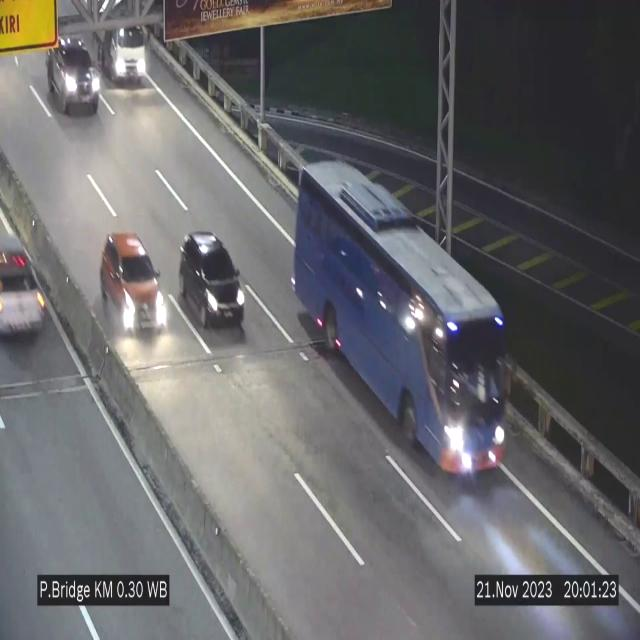Bus: (290, 155, 512, 484)
Car: (99, 230, 169, 337), (179, 232, 245, 328), (0, 216, 48, 346), (43, 31, 100, 123)
Truck: (86, 0, 152, 95)
